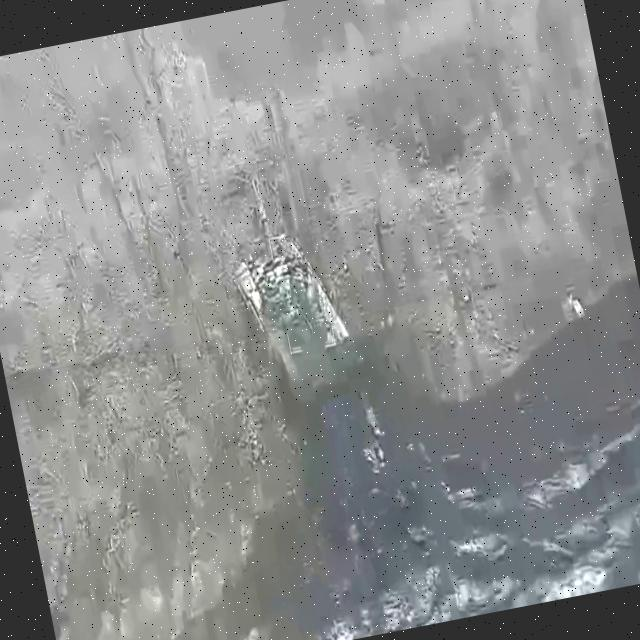MBT: (216, 168, 362, 418)
